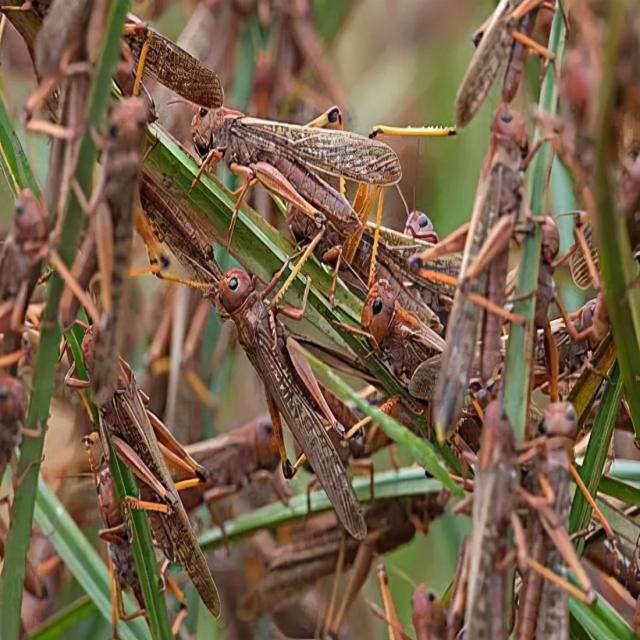ZhaMeng: (206, 262, 365, 553), (441, 98, 536, 442), (182, 98, 398, 247)
